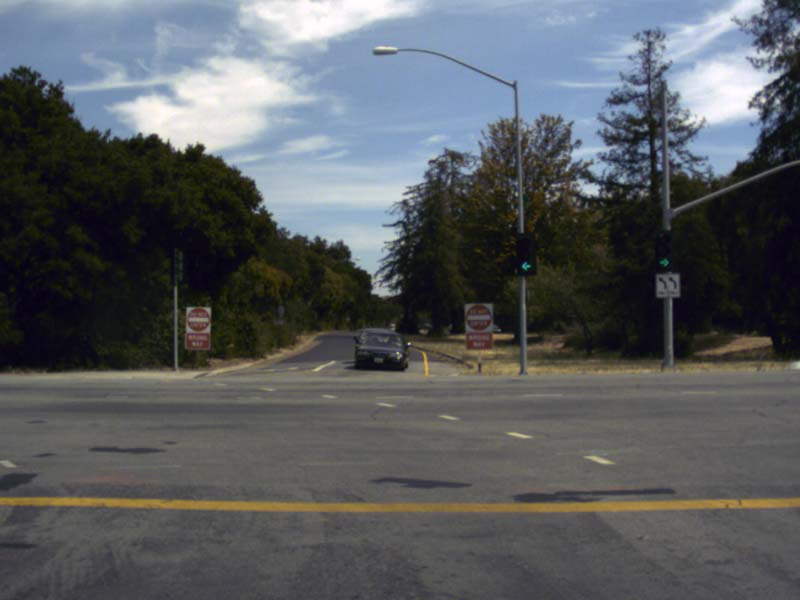Green: (517, 233, 535, 275), (654, 230, 672, 271)
